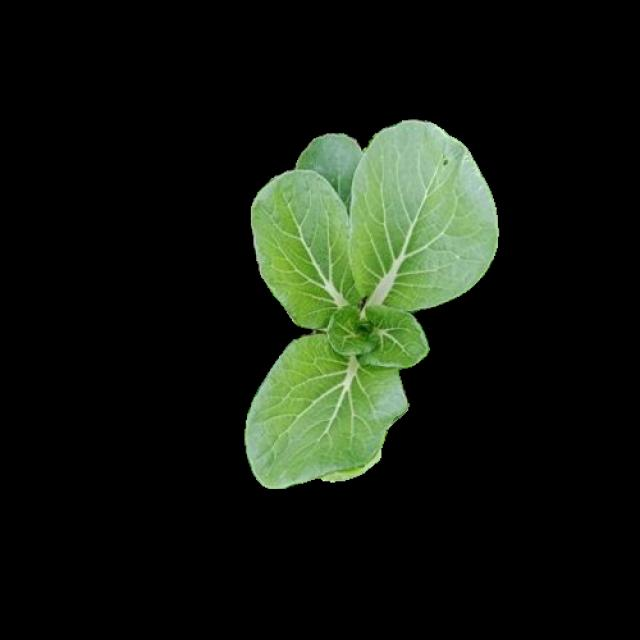mature: (247, 114, 495, 486)
unhealthy: (351, 122, 494, 307)
